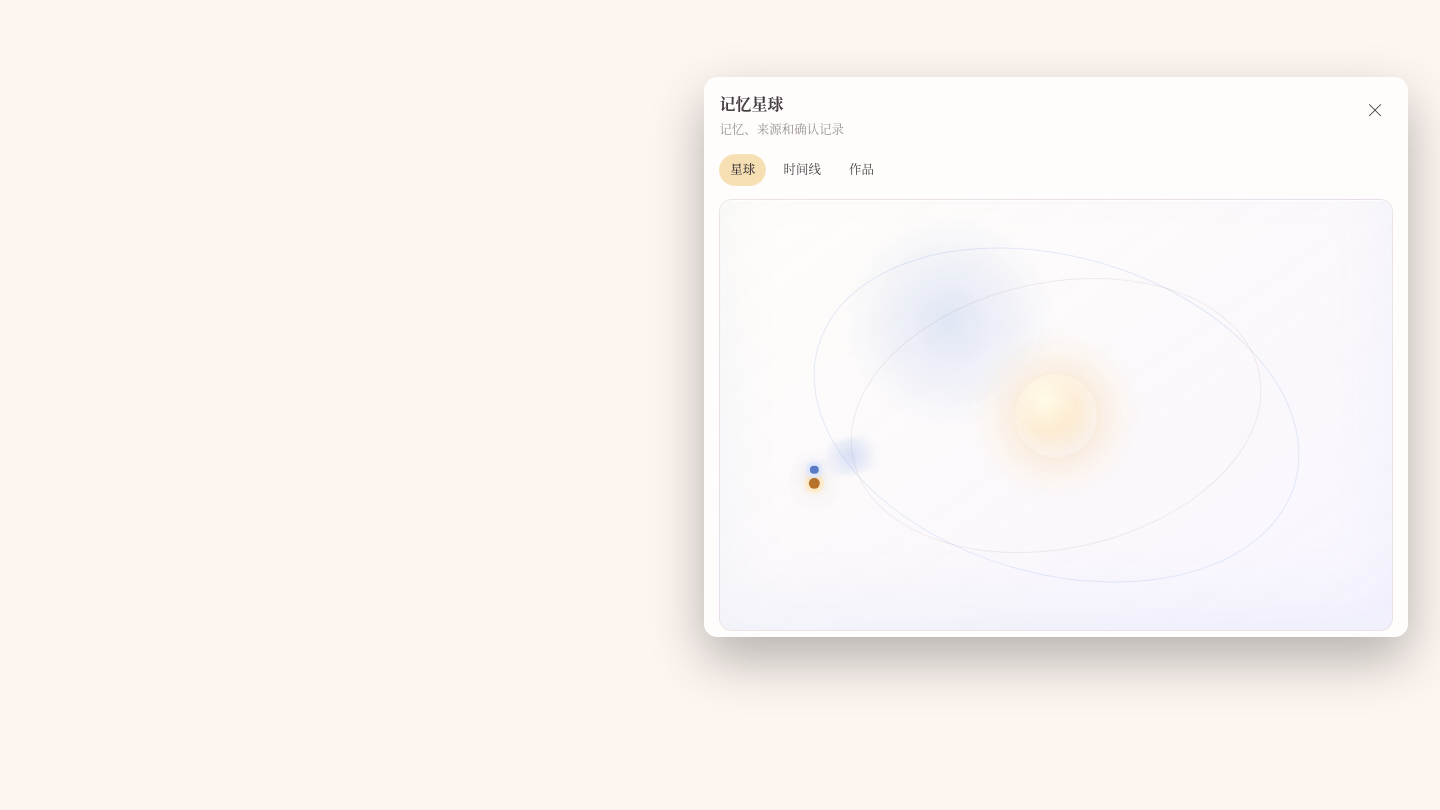
Test: MemoryPlanetPanel › labels public works as already published
Click the button with aria-label "查看智能体作品" at (862, 170), box [838,154,885,186]
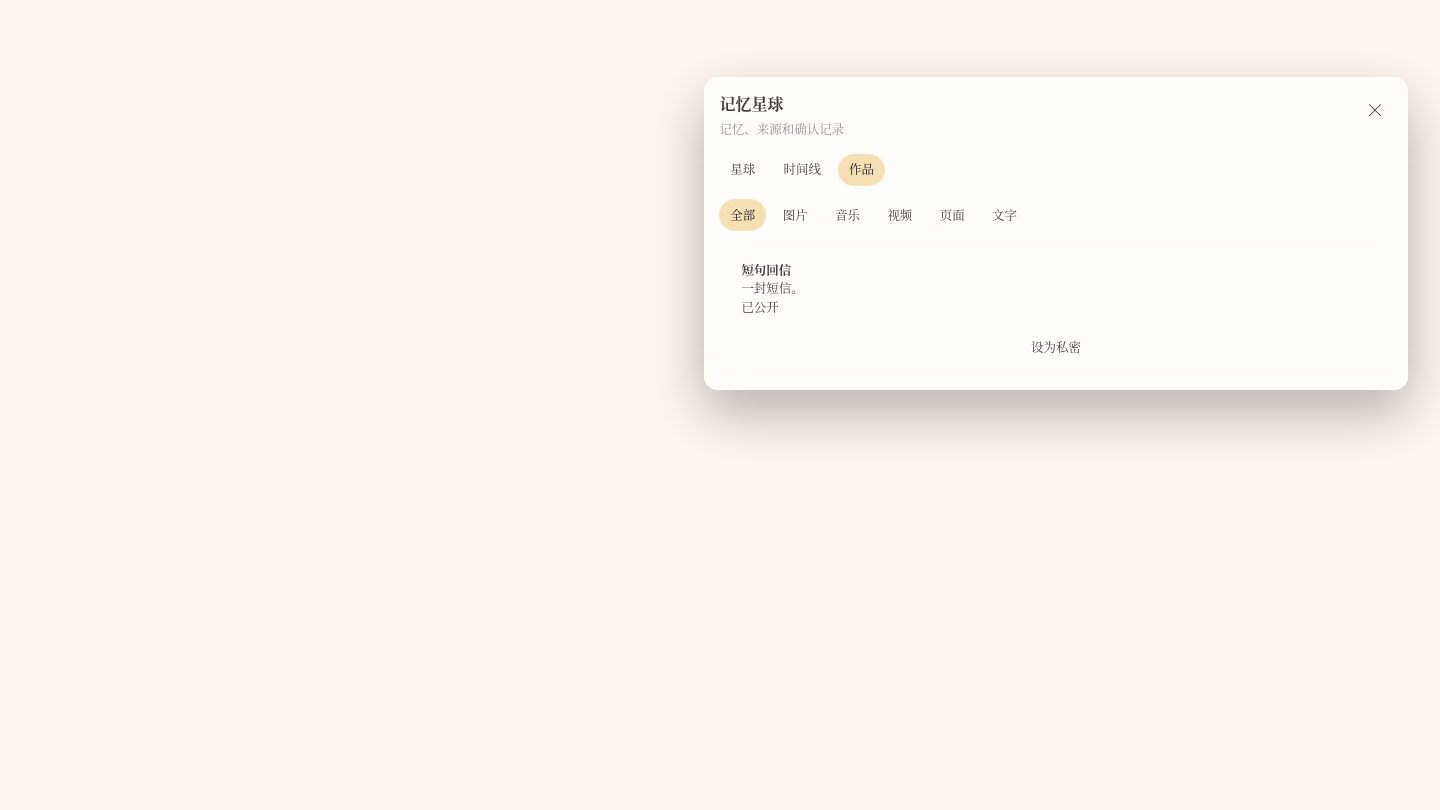
Expected: the text "已公开" is shown, [741,298,779,317]
